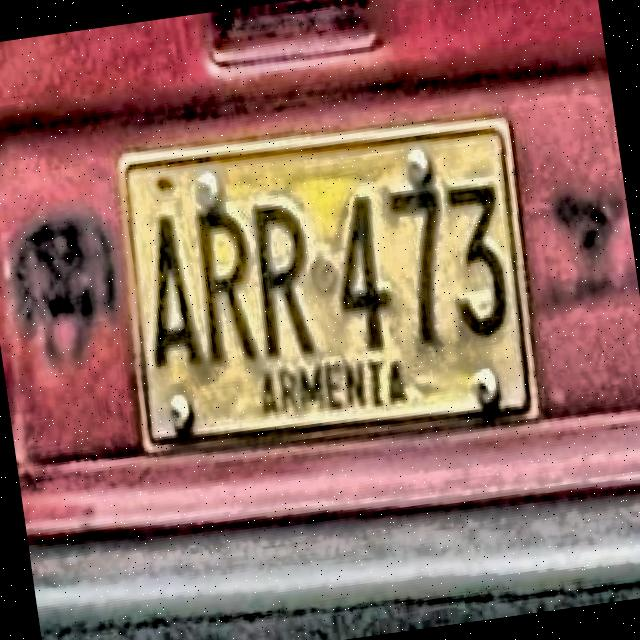plate: (122, 124, 537, 444)
